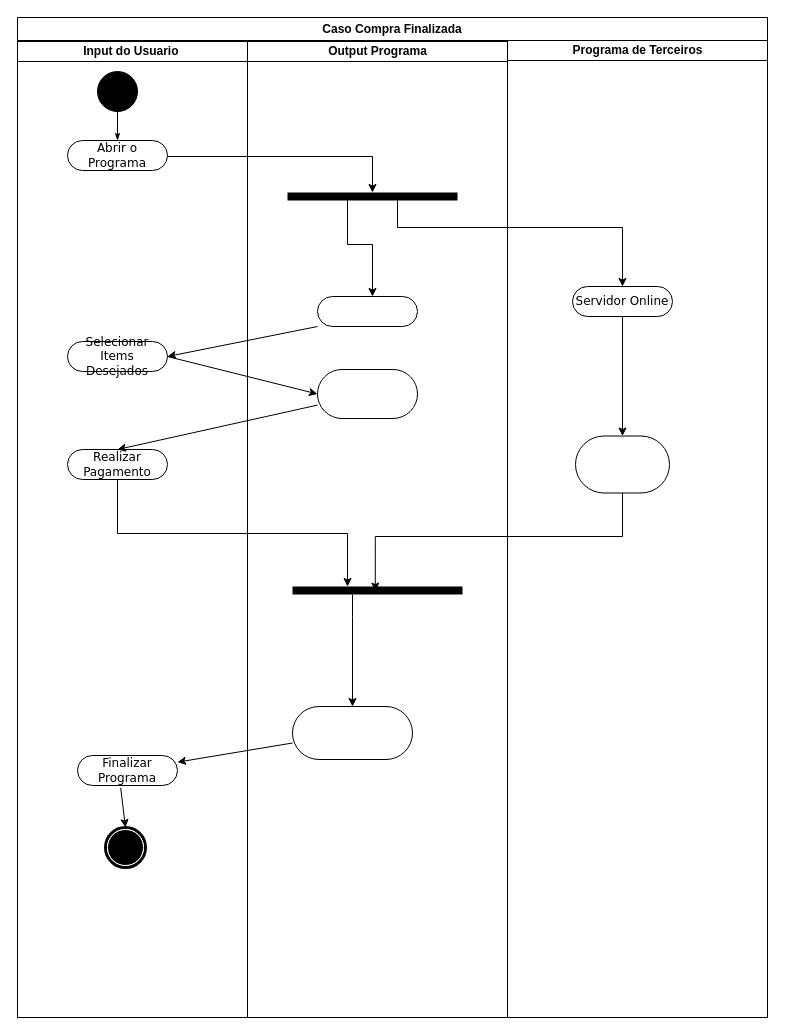
The diagram is 785 pixels wide and 1035 high, and some of its shapes have lost their labels. The centre of each missing label's shape, as x and y in pixels:
Gerar Comprovante de Compra: [352,733]
Gerar Nota de Compra: [367,393]
Mostrar lista de produtos: [367,311]
Servico de Pagamento online: [622,464]
